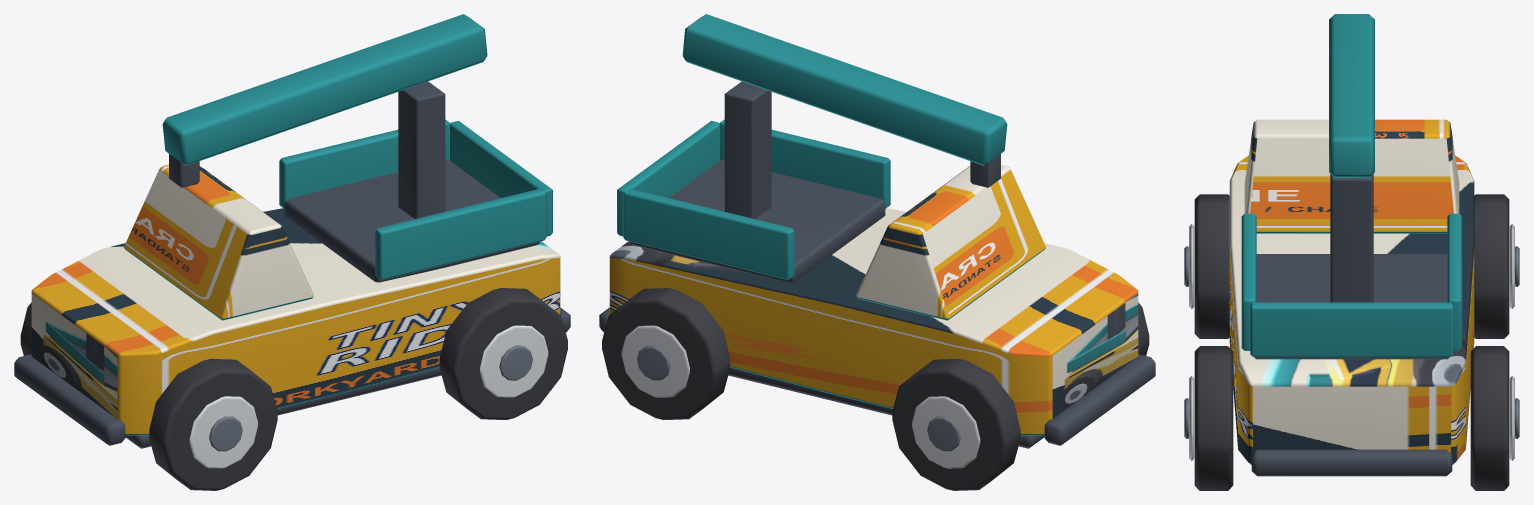
3 renders of one model, left to right at view 1: azimuth 30°, elevation 25°; view 2: azimuth 150°, elevation 25°; view 3: azimuth 270°, elevation 25°, orthographic. The views are drawn at different scales.
Visible parts, largest first — view 1: WY-04_connected_shell, WY-04_cabin, boom, Tire, Tire.002, cargo side, cargo floor, boom pillar, cargo side.001, cargo tail, front bumper, Rim (+5 smaller); view 2: WY-04_connected_shell, WY-04_cabin, boom, Tire.001, Tire.003, cargo side.001, cargo floor, boom pillar, cargo side, cargo tail, front bumper, Rim.001 (+5 smaller); view 3: WY-04_connected_shell, WY-04_cabin, cargo tail, cargo floor, boom, Tire.002, Tire.003, rear bumper, boom pillar, Tire, Tire.001, cargo side (+5 smaller).
Part boxes in pixels (x1,y1,x2,y2): WY-04_connected_shell: [31, 208, 560, 435]; WY-04_cabin: [124, 164, 313, 320]; boom: [162, 14, 487, 165]; Tire: [149, 358, 277, 490]; Tire.002: [439, 288, 567, 419]; cargo side: [375, 188, 546, 279]; cargo floor: [284, 159, 540, 282]; boom pillar: [398, 81, 445, 218]; cargo side.001: [279, 119, 450, 208]; cargo tail: [450, 120, 552, 236]; front bumper: [14, 354, 125, 445]; Rim: [189, 396, 257, 468]; WY-04_connected_shell: [609, 208, 1138, 435]; WY-04_cabin: [856, 164, 1045, 320]; boom: [682, 14, 1007, 165]; Tire.001: [892, 358, 1020, 490]; Tire.003: [602, 288, 730, 419]; cargo side.001: [623, 188, 794, 279]; cargo floor: [629, 159, 885, 282]; boom pillar: [724, 81, 771, 218]; cargo side: [719, 119, 890, 208]; cargo tail: [617, 120, 719, 236]; front bumper: [1044, 354, 1155, 445]; Rim.001: [912, 396, 980, 468]; WY-04_connected_shell: [1229, 155, 1474, 464]; WY-04_cabin: [1244, 119, 1459, 233]; cargo tail: [1250, 302, 1453, 357]; cargo floor: [1254, 254, 1449, 359]; boom: [1329, 14, 1374, 177]; Tire.002: [1194, 346, 1233, 490]; Tire.003: [1470, 346, 1509, 490]; rear bumper: [1251, 449, 1452, 476]; boom pillar: [1330, 174, 1373, 302]; Tire: [1194, 194, 1229, 338]; Tire.001: [1474, 194, 1509, 338]; cargo side: [1241, 213, 1256, 350].
Size of the model in its own units: 390 by 271 by 226.
